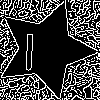I: (20, 24, 38, 71)
